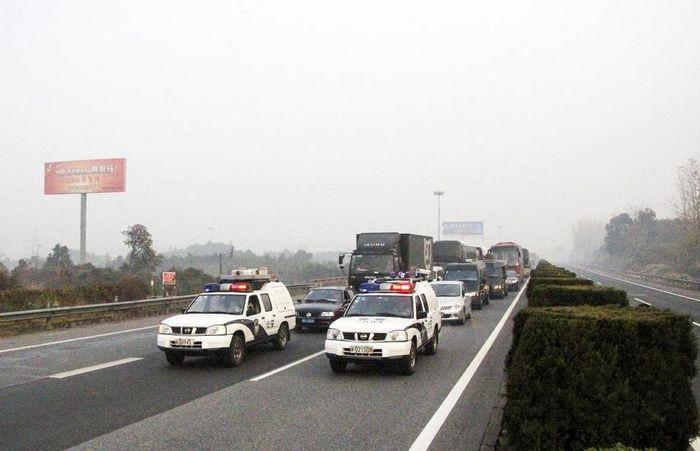bus: (338, 231, 434, 299), (485, 240, 524, 286), (431, 238, 467, 285), (505, 246, 533, 277), (458, 245, 485, 276)
car: (156, 268, 297, 366), (325, 271, 441, 375), (292, 285, 356, 332), (441, 261, 489, 310), (425, 280, 472, 325), (472, 259, 508, 299), (495, 269, 521, 291)
